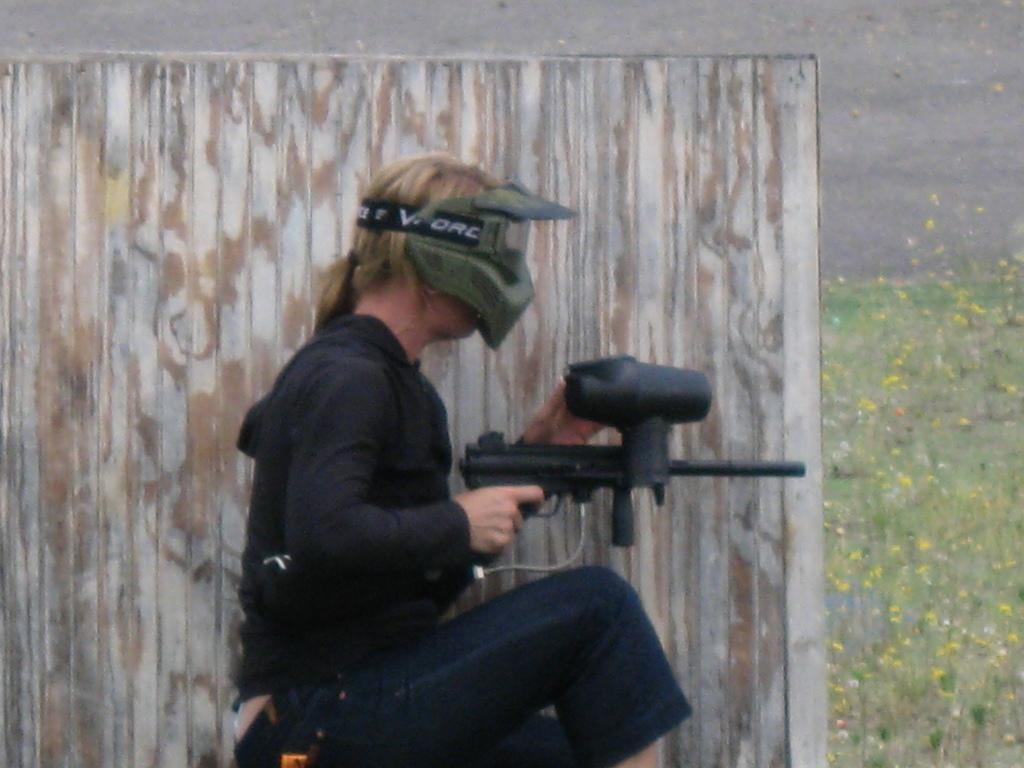non-violence: (232, 160, 688, 768)
weapon: (458, 351, 816, 585)
